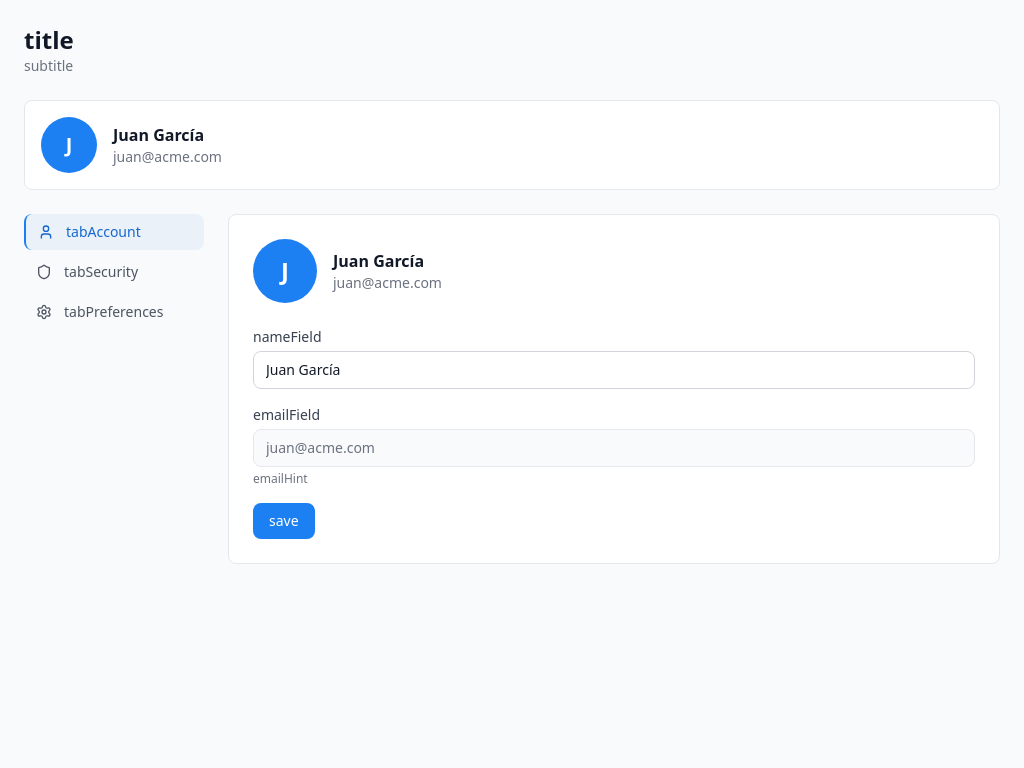
Test: ProfilePage › tab Seguridad navega al hacer clic
The width and height of the screenshot is (1024, 768).
Click the button "tabSecurity" at (114, 272), box [24, 254, 204, 290]
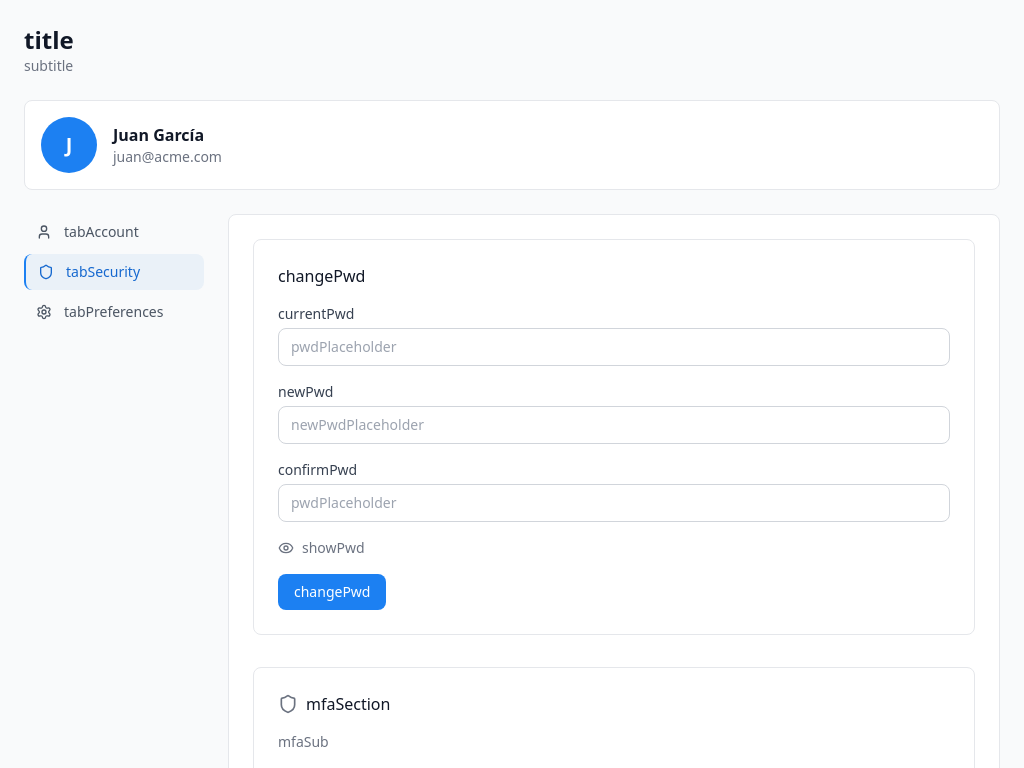
Expected: the form with test id "change-password-form" is shown, [278, 304, 950, 610]
